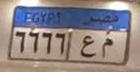6: (55, 33, 67, 56), (42, 32, 53, 55), (29, 31, 40, 54), (16, 31, 27, 54)
ain: (80, 35, 96, 57)
meem: (101, 37, 113, 58)
